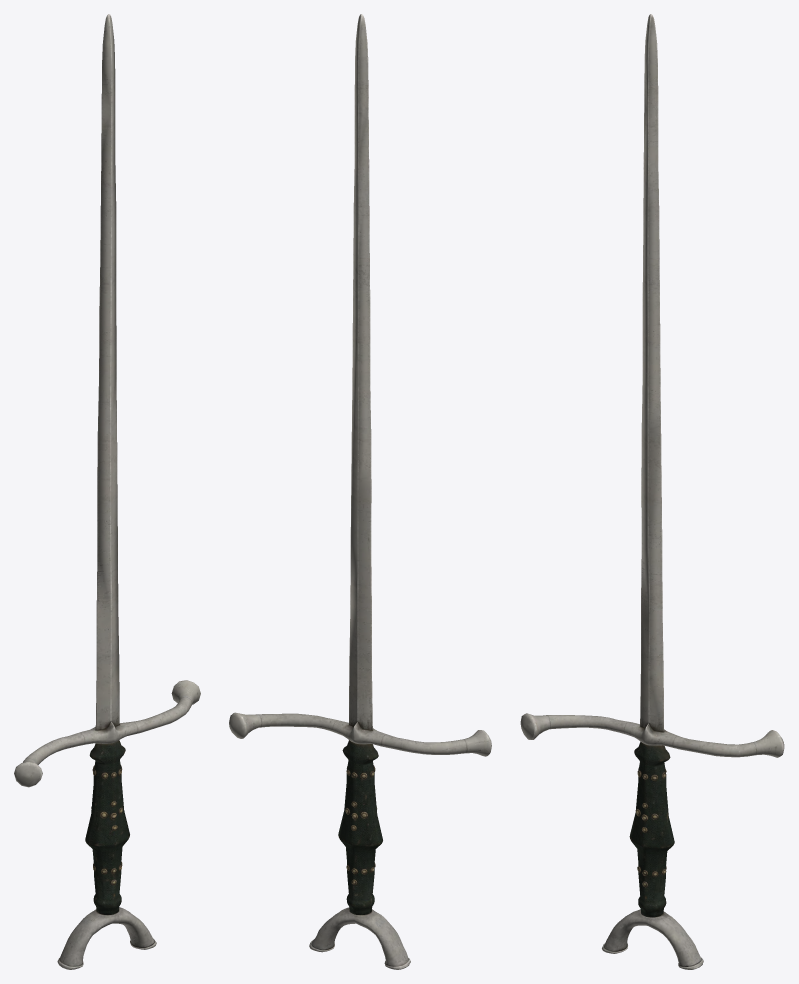
The model's file is antique_estoc.glb.
3 views of the same model, side by side, from view 1: azimuth 30°, elevation 25°; view 2: azimuth 150°, elevation 25°; view 3: azimuth 330°, elevation 25° (orthographic).
Parts seen in each view (by area): view 1: antique_estoc; view 2: antique_estoc; view 3: antique_estoc.
Part boxes in pixels (bbox=[...]): antique_estoc: bbox=[14, 14, 200, 969]; antique_estoc: bbox=[229, 14, 491, 969]; antique_estoc: bbox=[520, 14, 784, 969].
Size of the model in its own units: 0.3715 by 1.49 by 0.149.
1 material, 1 textured.
